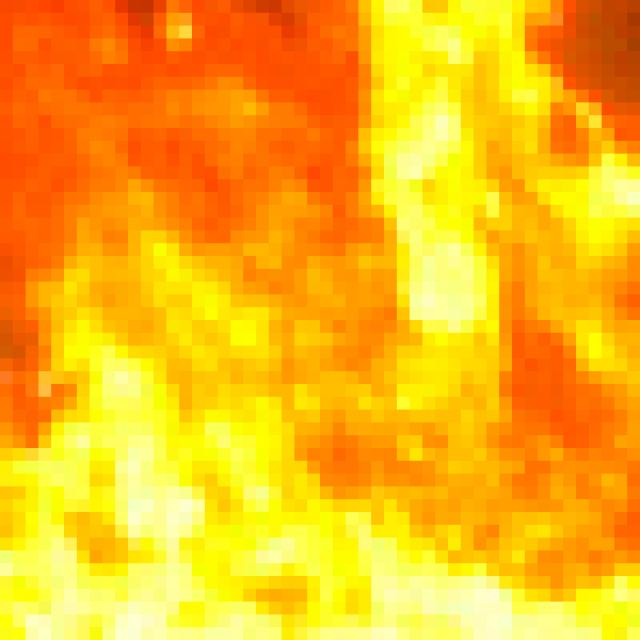fire: (14, 18, 640, 624)
